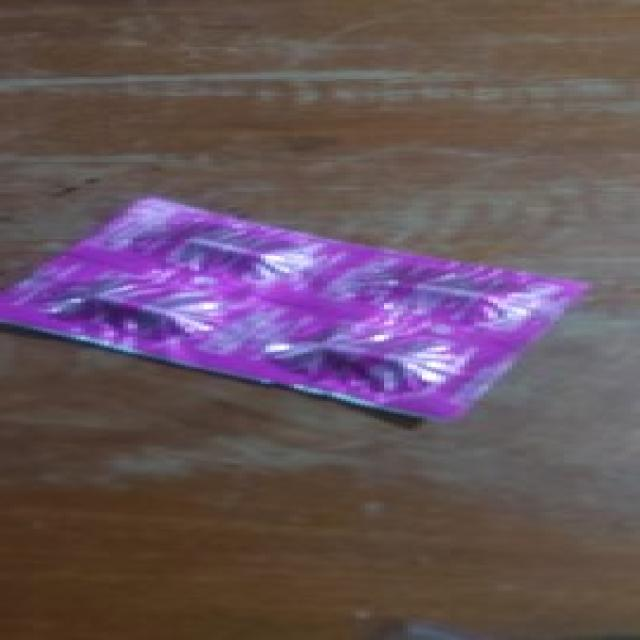Cacat: (0, 192, 585, 422)
